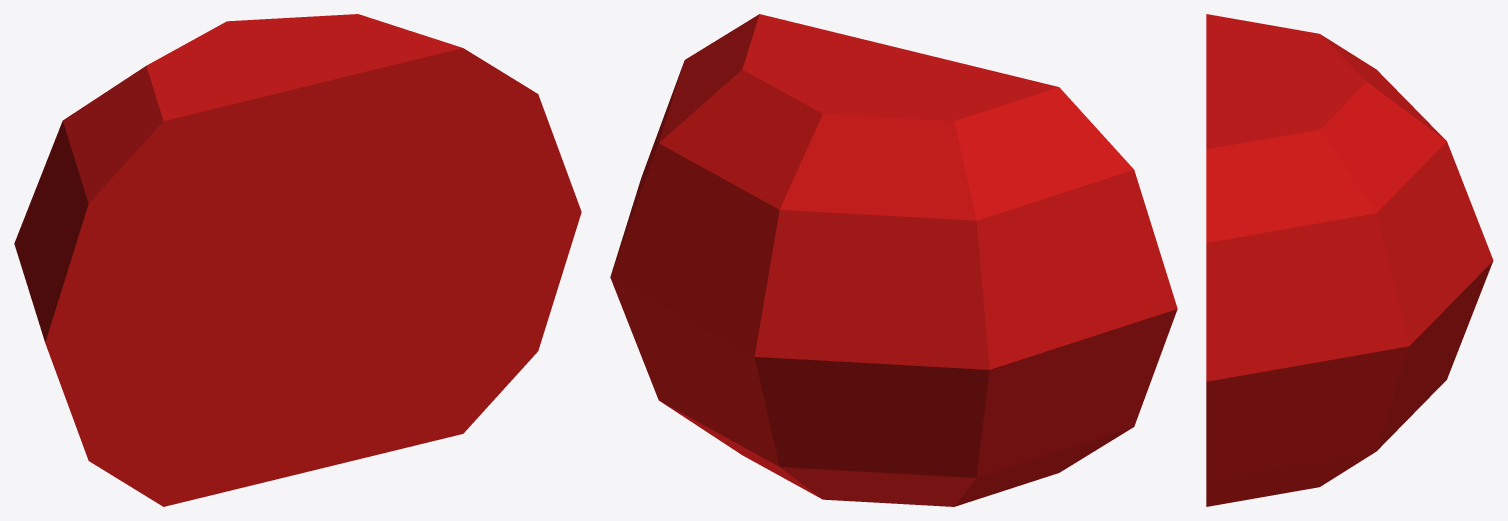
File: choppedCherryTomato.obj
The picture shows the model from 3 angles, left to right: view 1: azimuth 30°, elevation 25°; view 2: azimuth 150°, elevation 25°; view 3: azimuth 270°, elevation 25°; orthographic projection. The views are drawn at different scales.
Visible parts, largest first — view 1: tomato.001; view 2: tomato.001; view 3: tomato.001.
Part boxes in pixels (<box>): tomato.001: <box>14,14,581,506</box>; tomato.001: <box>610,14,1177,506</box>; tomato.001: <box>1206,14,1493,506</box>.
Bounding box in the file's own units: 0.0848 × 0.0583 × 0.0424.
